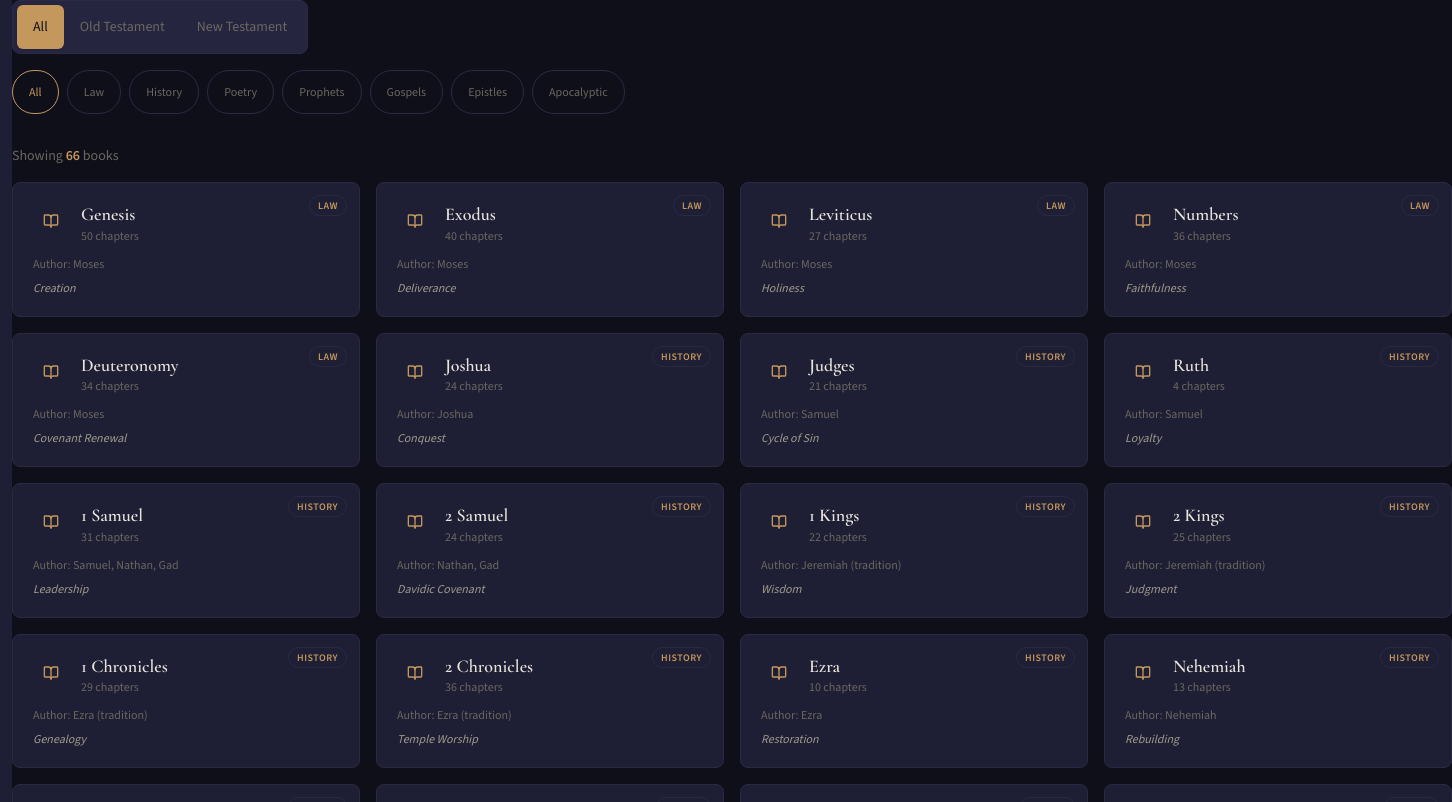
Scenario: BookGrid › filters to only Old Testament books when OT is selected
Click the radio button "Old Testament" at (122, 27), box [64,5,181,49]
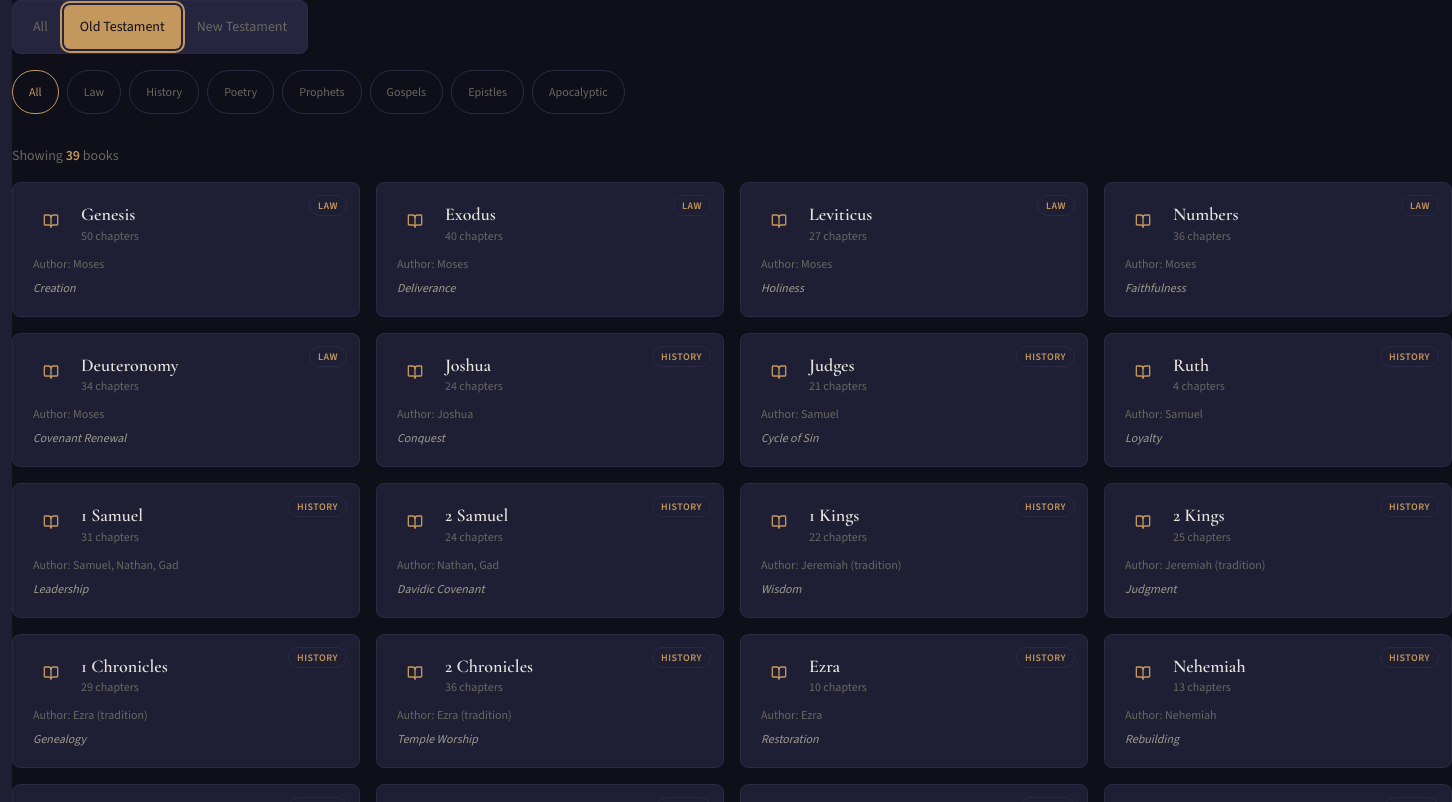
Expected: the heading "Genesis" is shown, [81,203,139,226]
Now the text "39" is shown, box [66,146,80,165]
